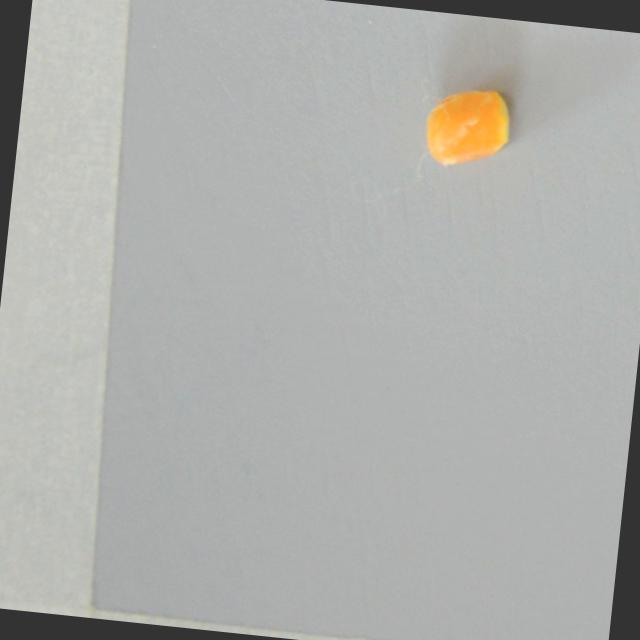pelicula: (417, 80, 519, 175)
